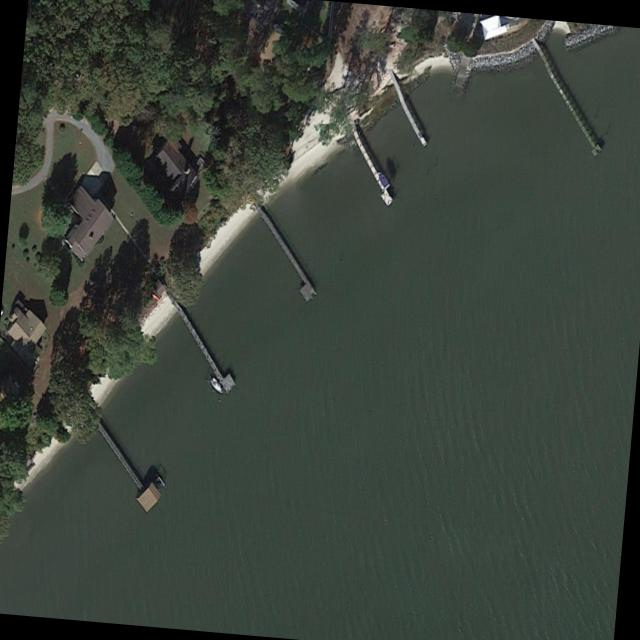ship: (206, 373, 223, 396), (374, 168, 389, 189)
